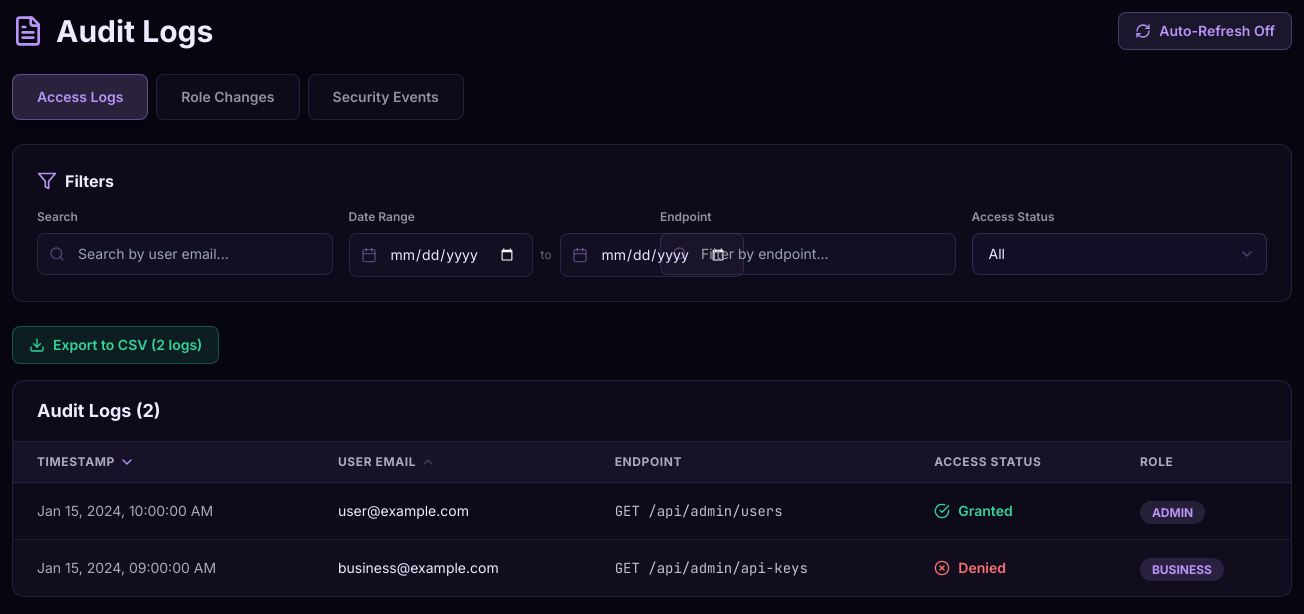
Test: AuditLogs › should switch to role changes tab and fetch role change logs
Click role changes tab
Step 1. Click the button "Role Changes" → (228, 97), box 156,74 -> 300,120
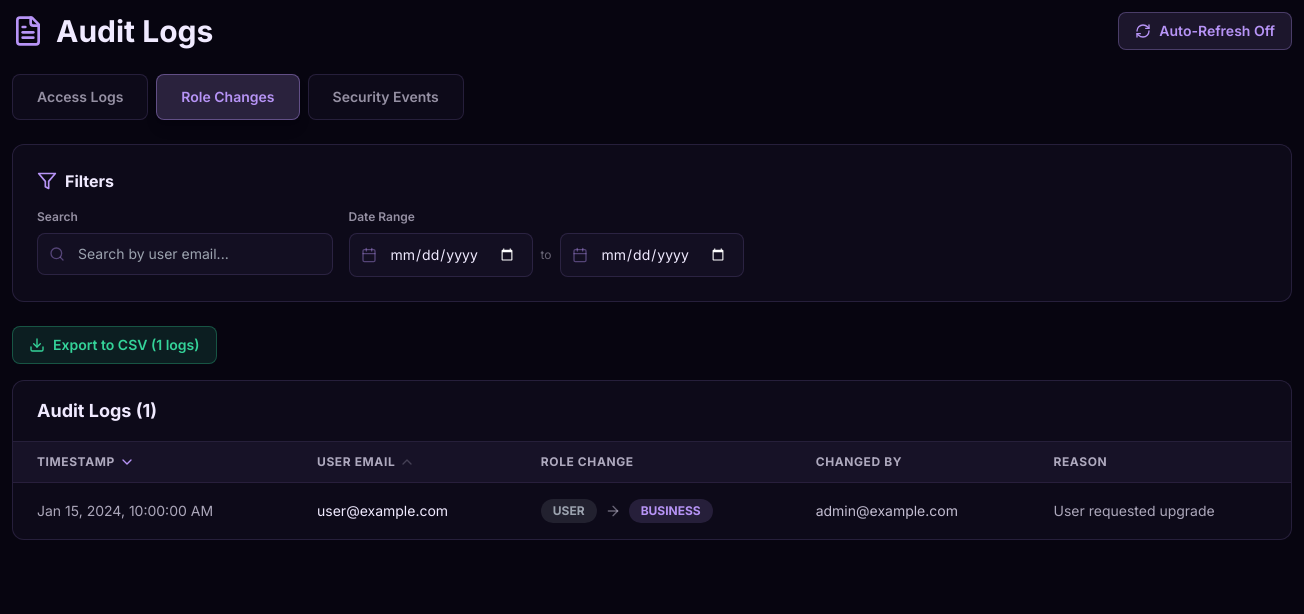
Now the text "User requested upgrade" is shown, box 1030,482 -> 1291,539
